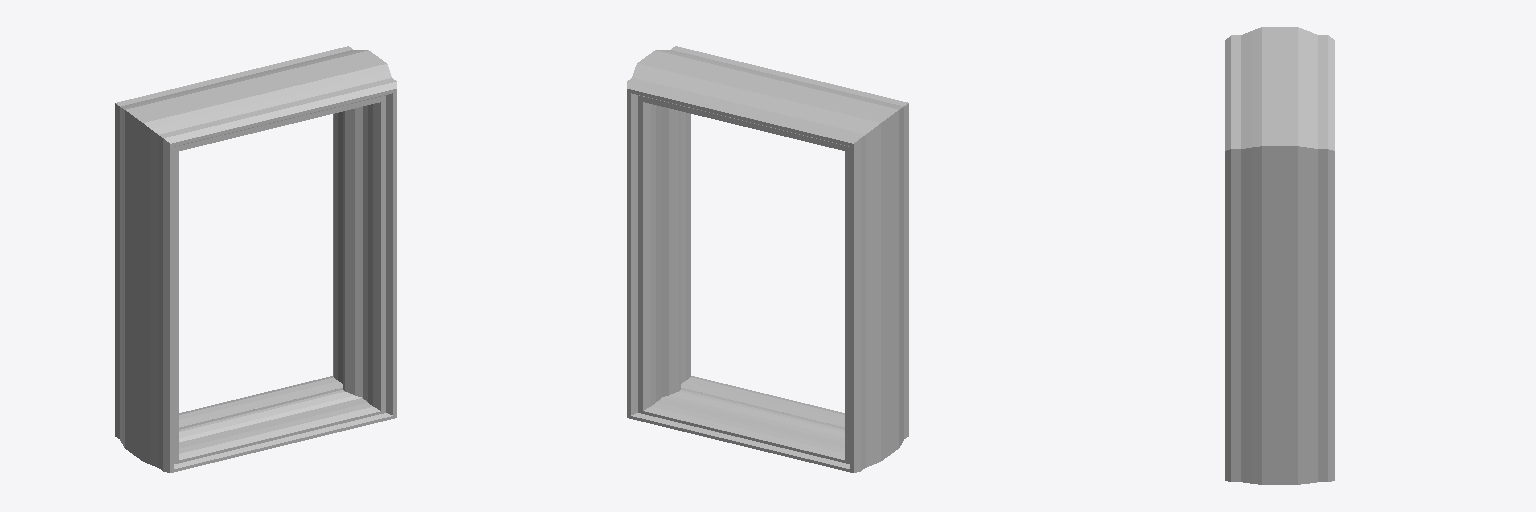
File: mansion_doorframe.obj
3 renders of one model, left to right at view 1: azimuth 30°, elevation 25°; view 2: azimuth 150°, elevation 25°; view 3: azimuth 270°, elevation 25°, orthographic.
Parts seen in each view (by area): view 1: mansionbase_doorframe; view 2: mansionbase_doorframe; view 3: mansionbase_doorframe.
Part boxes in pixels (x1,y1,x2,y2): mansionbase_doorframe: (115, 46, 396, 472); mansionbase_doorframe: (627, 46, 908, 472); mansionbase_doorframe: (1225, 27, 1334, 484).
Bounding box in the file's own units: 2.42 × 3.21 × 0.9526.